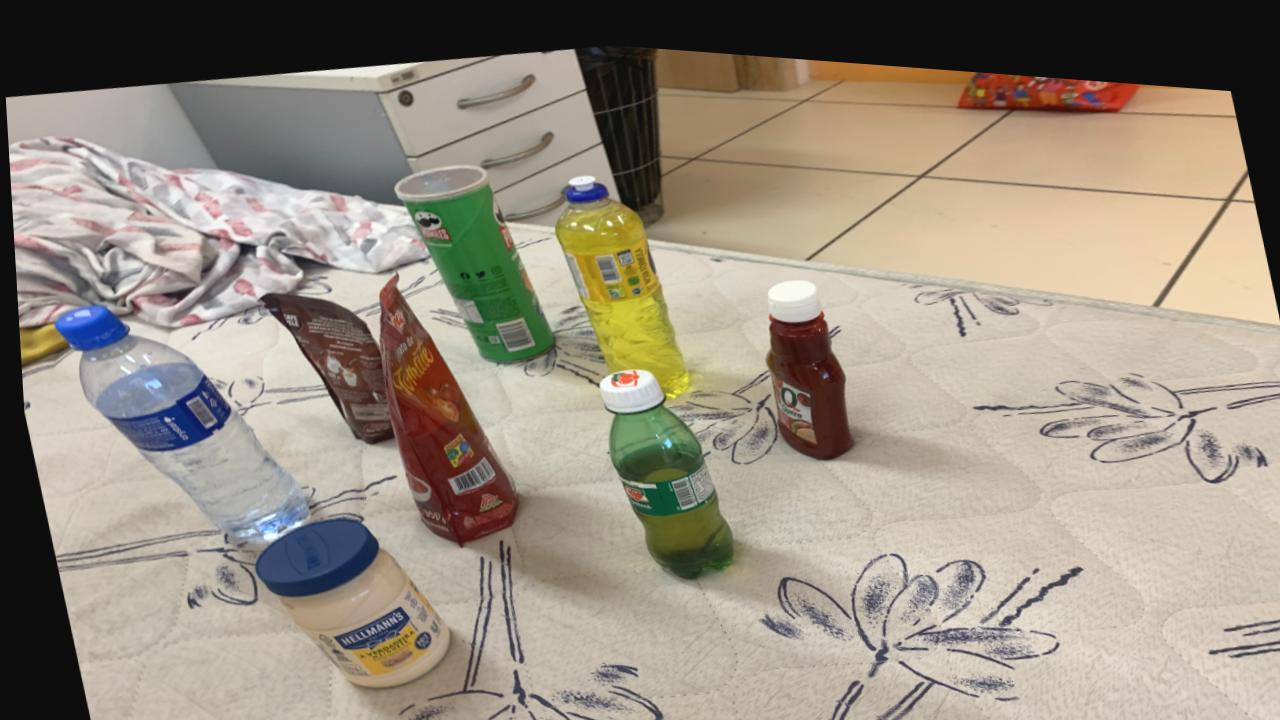Coffee-Pantry_Items: (258, 289, 388, 438)
Detergent-Cleanup_Items: (553, 166, 686, 387)
Guarana-Drinks: (595, 358, 728, 568)
Ketchup-Pantry_Items: (762, 267, 849, 446)
Mayonnaise-Pantry_Items: (249, 513, 443, 682)
Pringles-Snacks: (393, 157, 551, 355)
Tomato_Sauce-Pantry_Items: (376, 270, 512, 538)
Water_Bottle-Drinks: (51, 303, 302, 540)
